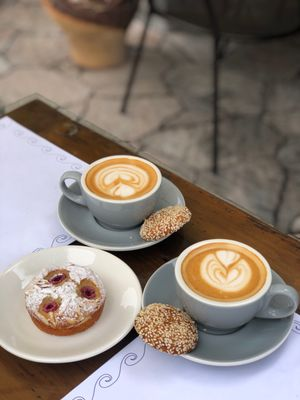pizza: (174, 238, 300, 335), (58, 154, 162, 230)
